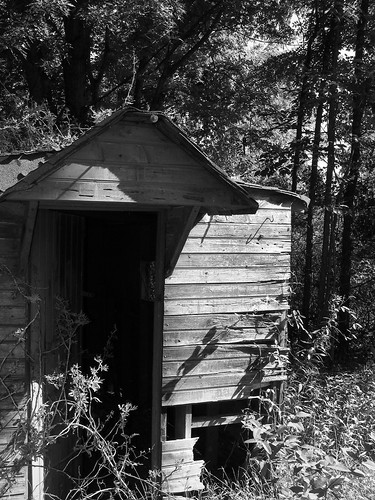building: (1, 119, 290, 500)
vegetation: (1, 1, 358, 129), (285, 1, 375, 494)
